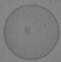small: (22, 25, 32, 34)
